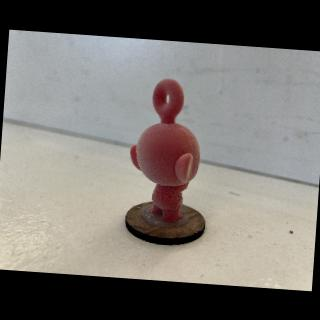teletubby: (130, 78, 199, 221)
